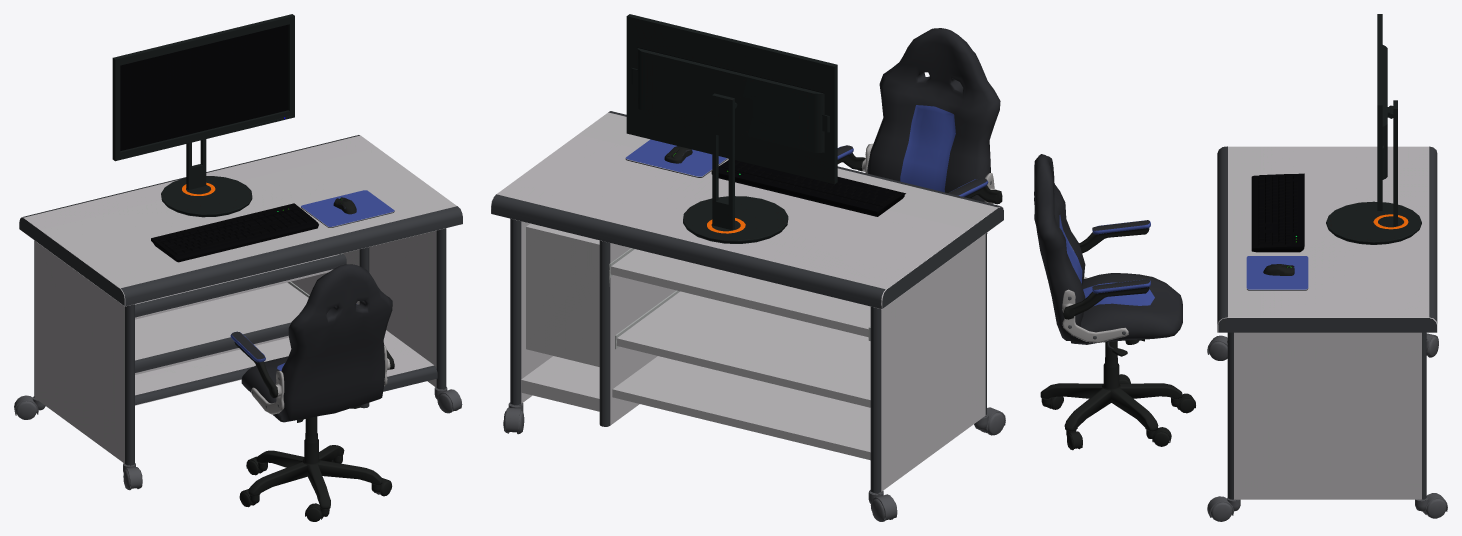
The picture shows the model from 3 angles, left to right: view 1: azimuth 30°, elevation 25°; view 2: azimuth 150°, elevation 25°; view 3: azimuth 270°, elevation 25°; orthographic projection. The views are drawn at different scales.
Parts seen in each view (by area): view 1: Object_2, Object_13; view 2: Object_13, Object_2; view 3: Object_13, Object_2.
Boxes of the visible parts, box(x1,y1,x2,y2) form: Object_2: box(14, 14, 462, 521); Object_13: box(20, 135, 462, 463); Object_13: box(491, 112, 1003, 491); Object_2: box(491, 14, 1005, 521); Object_13: box(1217, 146, 1437, 499); Object_2: box(1034, 14, 1447, 521).
Size of the model in its own units: 7.52 by 7.46 by 7.47.
Materials: 2 (2 with a texture image).
